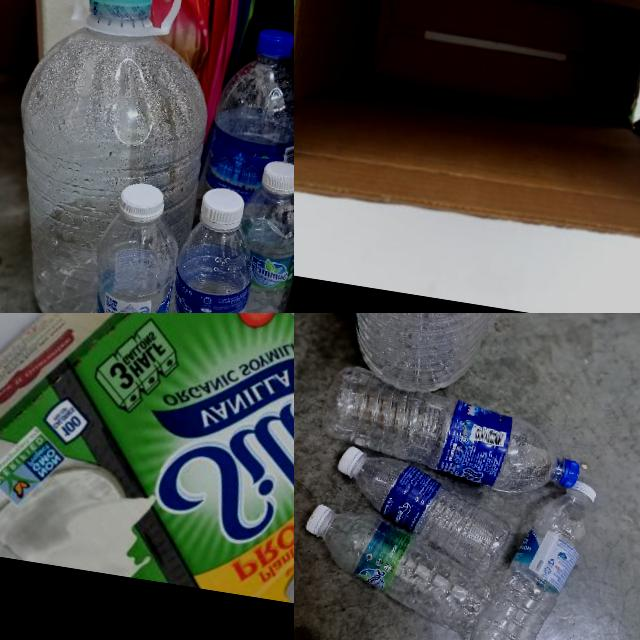garrafa plástica: (0, 0, 225, 313), (311, 360, 558, 494), (339, 454, 529, 572), (306, 506, 478, 626), (461, 491, 594, 640), (311, 313, 517, 401), (198, 45, 294, 219), (74, 208, 186, 313), (160, 220, 258, 313), (223, 186, 294, 313)
papelão: (294, 0, 640, 270), (0, 313, 294, 619)
tampa plástica: (200, 185, 248, 228), (117, 180, 166, 222), (562, 473, 602, 505), (260, 159, 294, 196), (328, 439, 360, 477), (254, 27, 294, 57), (302, 499, 331, 534), (86, 0, 157, 12), (556, 455, 579, 488)
